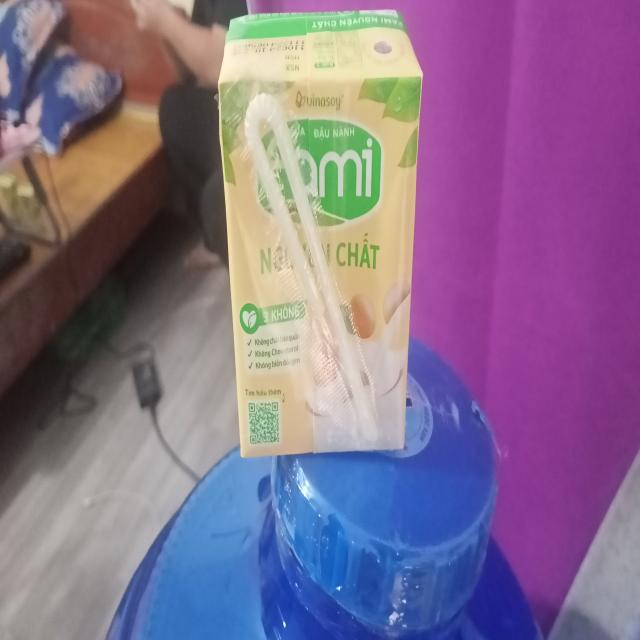Fami: (221, 7, 425, 460)
